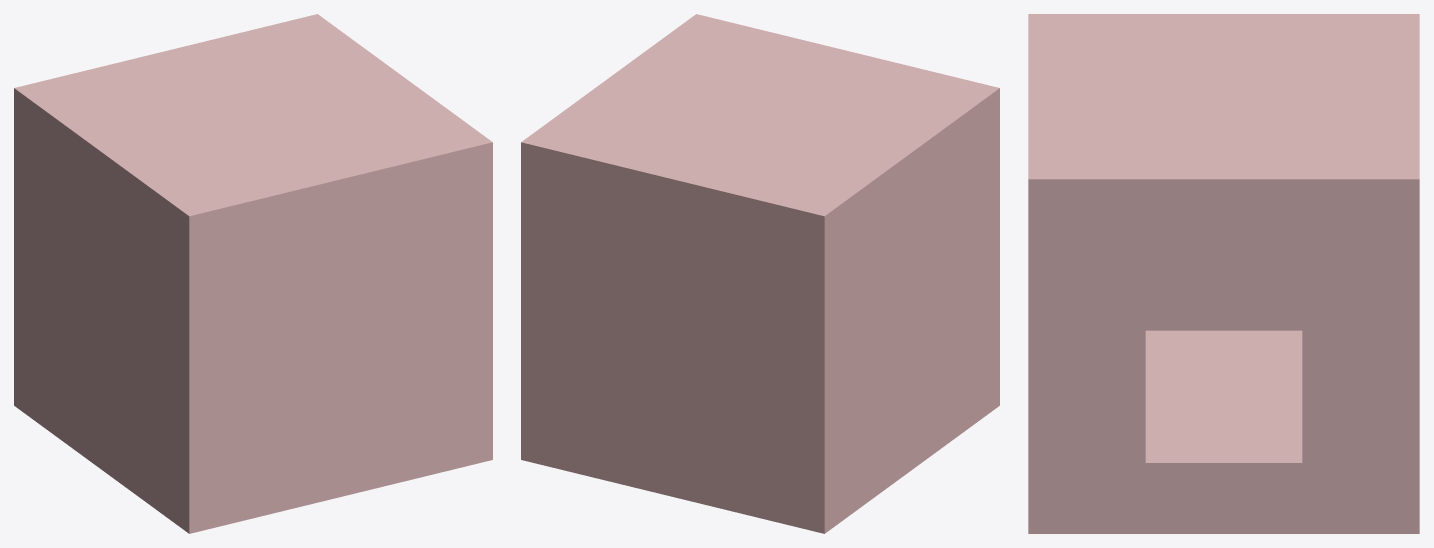
File: 엘베v74.fbx
3 views of the same model, side by side, from view 1: azimuth 30°, elevation 25°; view 2: azimuth 150°, elevation 25°; view 3: azimuth 270°, elevation 25° (orthographic). The views are drawn at different scales.
Parts seen in each view (by area): view 1: 박스1.002, 박스1.003, 박스1.007, 박스1, 박스1.001, 박스1.004; view 2: 박스1.001, 박스1.007, 박스1.003, 박스1, 박스1.002, 박스1.004; view 3: 박스1.007, 박스1, 박스1.001, 박스1.005, 박스1.004, 박스1.002, 박스1.006, 박스1.003.
Boxes of the visible parts, bbox=[...] form: 박스1.002: bbox=[154, 116, 492, 523]; 박스1.003: bbox=[14, 73, 249, 528]; 박스1.007: bbox=[75, 52, 492, 277]; 박스1: bbox=[14, 343, 492, 533]; 박스1.001: bbox=[14, 14, 334, 430]; 박스1.004: bbox=[289, 27, 369, 67]; 박스1.001: bbox=[521, 129, 859, 533]; 박스1.007: bbox=[521, 14, 999, 279]; 박스1.003: bbox=[764, 88, 999, 459]; 박스1: bbox=[824, 347, 999, 533]; 박스1.002: bbox=[965, 208, 999, 430]; 박스1.004: bbox=[539, 104, 633, 143]; 박스1.007: bbox=[1028, 14, 1419, 250]; 박스1: bbox=[1028, 330, 1419, 533]; 박스1.001: bbox=[1341, 14, 1419, 533]; 박스1.005: bbox=[1067, 178, 1145, 533]; 박스1.004: bbox=[1302, 146, 1380, 533]; 박스1.002: bbox=[1028, 126, 1106, 533]; 박스1.006: bbox=[1145, 202, 1302, 298]; 박스1.003: bbox=[1145, 14, 1419, 330].
Size of the model in its own units: 1000 by 1000 by 1000.
